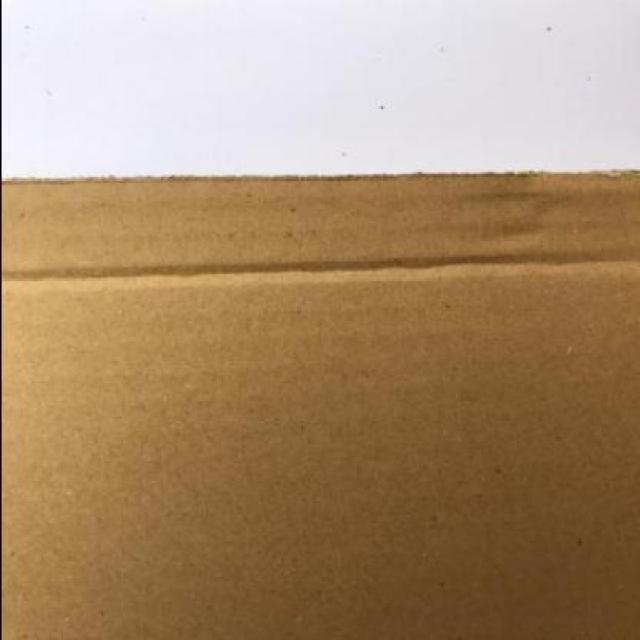CARDBOARD: (1, 167, 638, 638)
